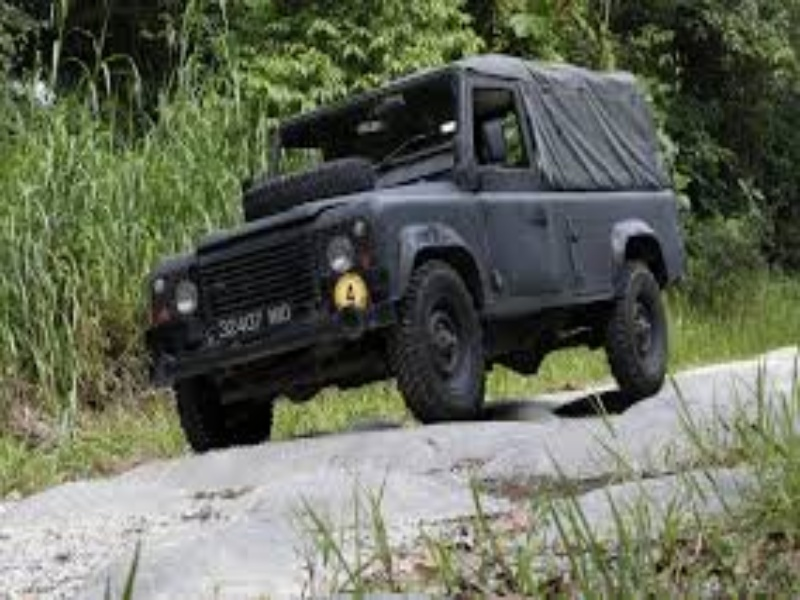jeep: (137, 48, 696, 461)
